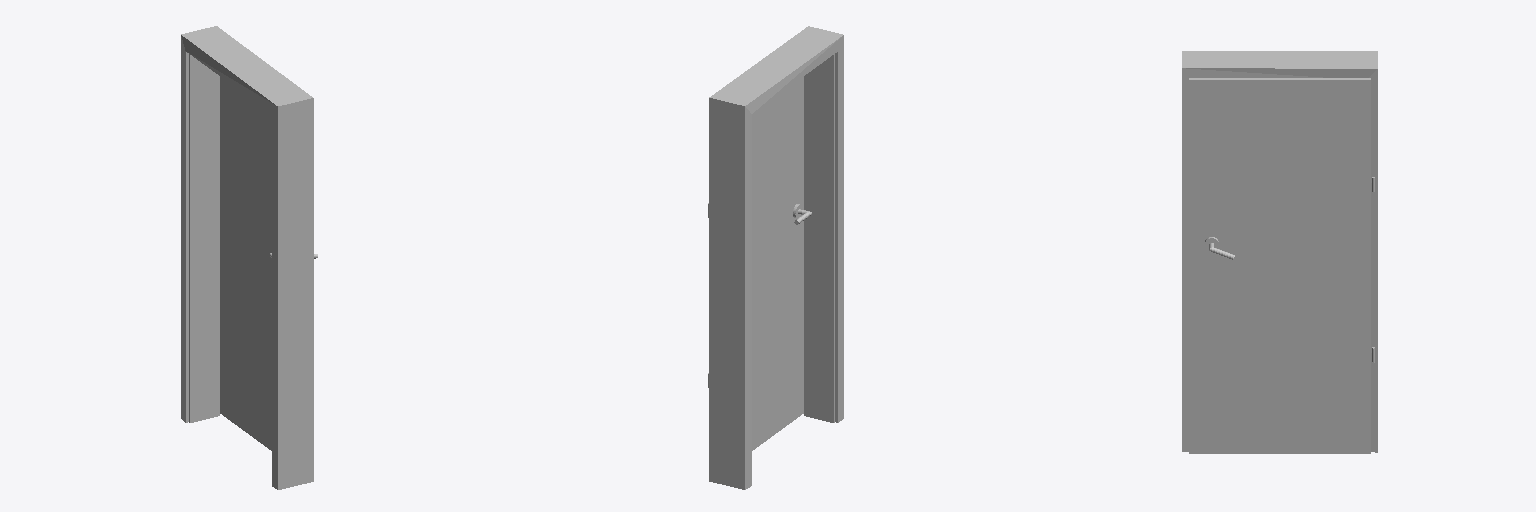
File: door48.obj
3 views of the same model, side by side, from view 1: azimuth 30°, elevation 25°; view 2: azimuth 150°, elevation 25°; view 3: azimuth 270°, elevation 25° (orthographic).
Visible parts, largest first — view 1: Cylinder.005, Cylinder.001; view 2: Cylinder.005, Cylinder.001; view 3: Cylinder.001, Cylinder.005.
Part boxes in pixels (left/top/right/bottom): Cylinder.005: left=181, top=26, right=313, bottom=489; Cylinder.001: left=220, top=77, right=271, bottom=450; Cylinder.005: left=708, top=26, right=843, bottom=489; Cylinder.001: left=708, top=77, right=803, bottom=450; Cylinder.001: left=1189, top=78, right=1374, bottom=453; Cylinder.005: left=1182, top=51, right=1377, bottom=452.
Bounding box in the file's own units: 0.3039 × 2.05 × 0.95.